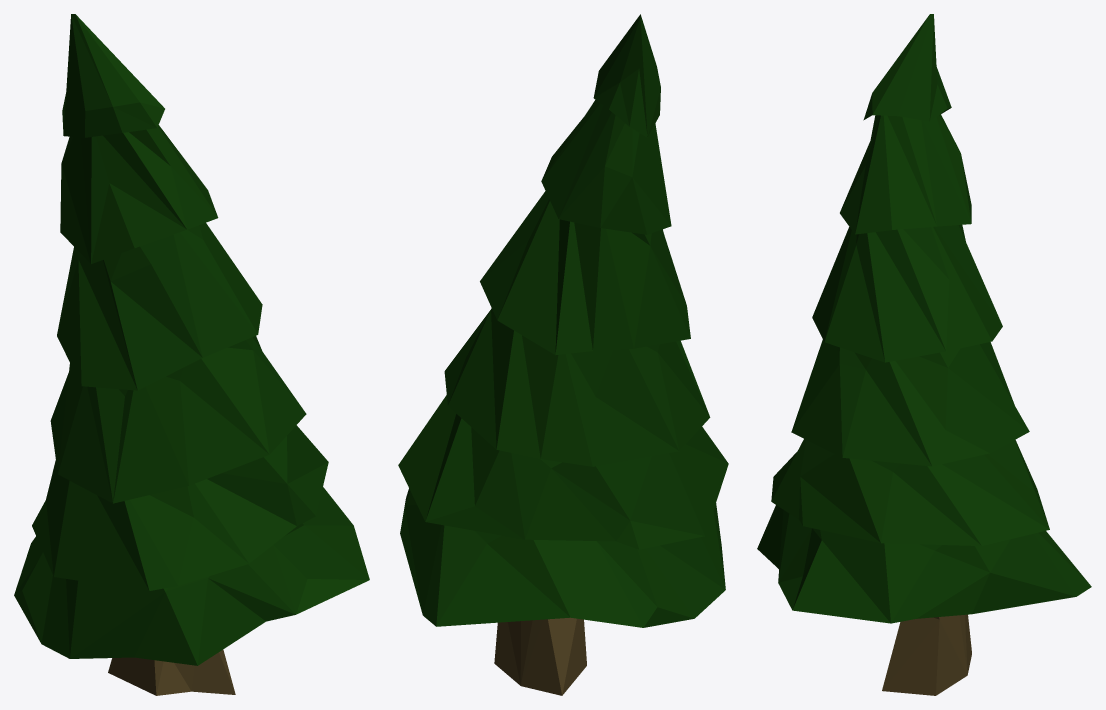
Rendered from Tree.obj.
3 views of the same model, side by side, from view 1: azimuth 30°, elevation 25°; view 2: azimuth 150°, elevation 25°; view 3: azimuth 270°, elevation 25° (orthographic). The views are drawn at different scales.
Visible parts, largest first — view 1: default; view 2: default; view 3: default.
Boxes of the visible parts, x1,y1,x2,y2 form: default: [14, 14, 369, 695]; default: [398, 14, 728, 695]; default: [757, 14, 1091, 695].
Size of the model in its own units: 87.34 by 191 by 93.79.
